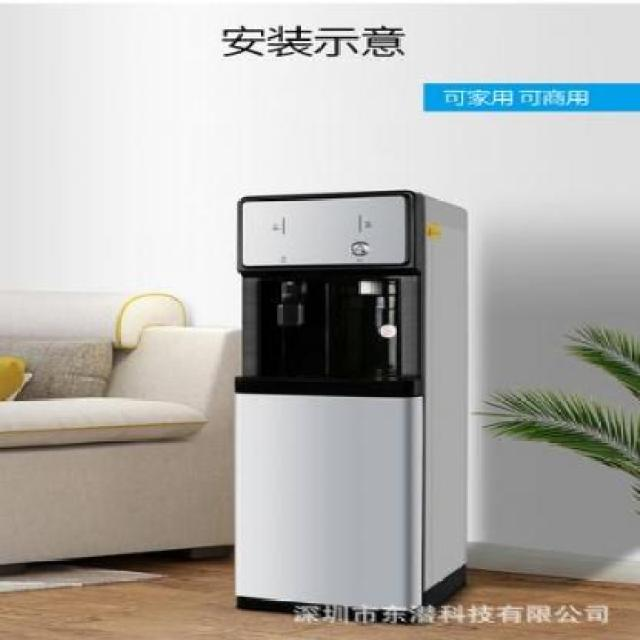cooler: (231, 185, 471, 624)
